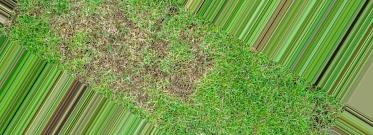patch: (83, 17, 156, 80), (101, 73, 181, 121), (162, 42, 218, 85)
